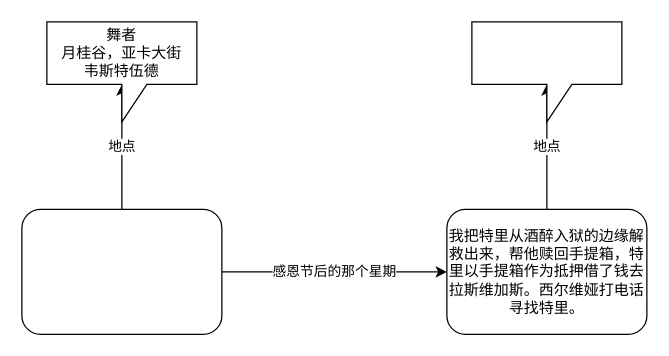
The diagram is 669 pixels wide and 356 high, and some of its shapes have lost their labels. The box of each missing label's shape, as (x1, y1, x2, y2) in pixels:
我在俱乐部门口遇到酒醉的特里和他的前妻西尔维娅，前妻离他而去，我送他回家: (21, 208, 222, 334)
韦斯特伍德: (471, 21, 622, 122)
